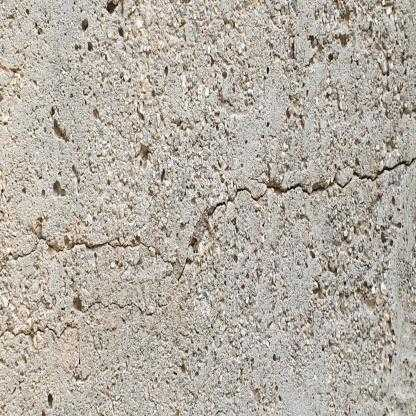crack: (5, 156, 416, 283)
